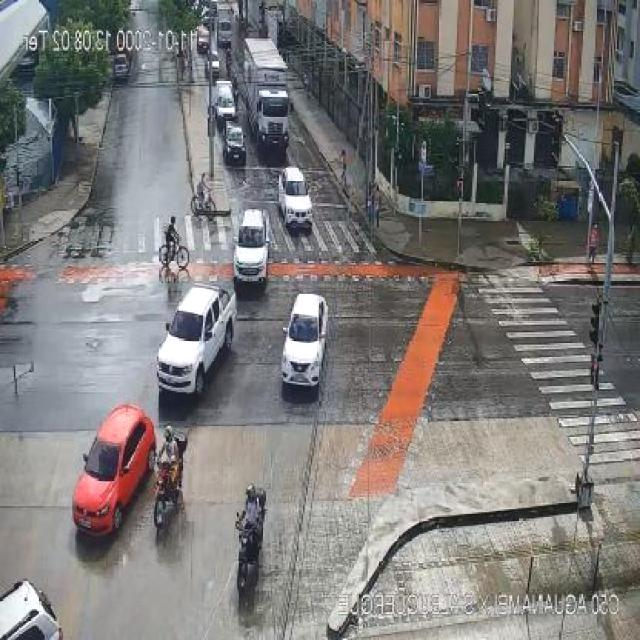Car: (70, 401, 156, 538), (282, 294, 328, 394), (1, 581, 62, 638), (232, 208, 271, 287), (278, 167, 314, 230), (222, 121, 246, 164), (112, 53, 130, 81), (204, 51, 222, 78)
Cycle: (151, 432, 189, 532), (234, 487, 268, 598), (158, 233, 189, 270), (191, 188, 216, 216), (226, 54, 233, 76)
Truck: (156, 280, 237, 396), (243, 36, 297, 151), (213, 78, 237, 127), (214, 3, 236, 46), (196, 25, 211, 53)
